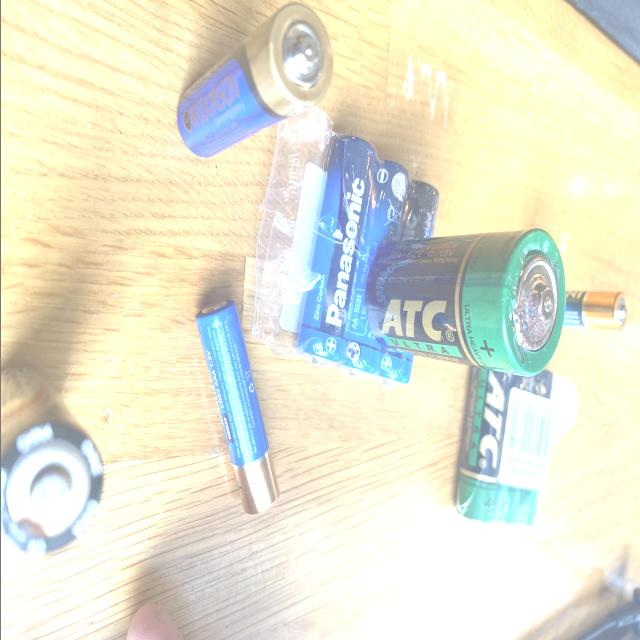AA: (171, 1, 338, 162)
AAA: (192, 299, 282, 519)
